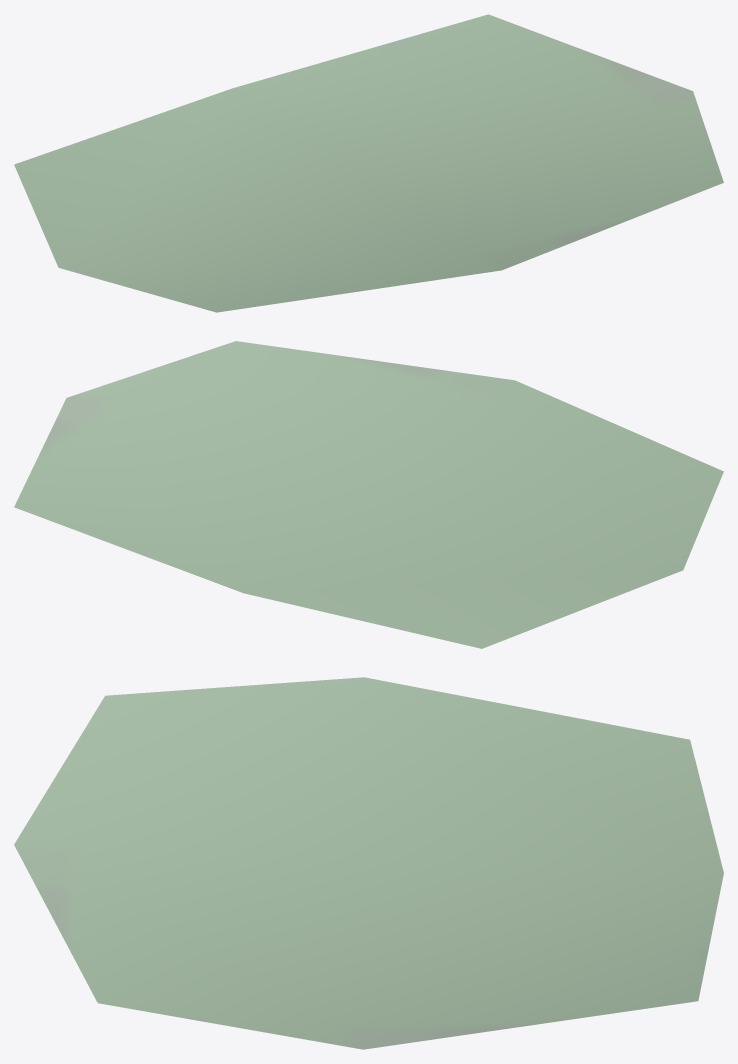
Rendered from TROLLHOLE02_HOLECAP28.fbx.
The picture shows the model from 3 angles, top to bottom: view 1: azimuth 30°, elevation 25°; view 2: azimuth 150°, elevation 25°; view 3: azimuth 270°, elevation 25°; orthographic projection. The views are drawn at different scales.
Parts seen in each view (by area): view 1: TROLLHOLE02_HOLECAP28; view 2: TROLLHOLE02_HOLECAP28; view 3: TROLLHOLE02_HOLECAP28.
Boxes of the visible parts, left/top/right/bottom form: TROLLHOLE02_HOLECAP28: left=14, top=14, right=723, bottom=312; TROLLHOLE02_HOLECAP28: left=14, top=341, right=723, bottom=648; TROLLHOLE02_HOLECAP28: left=14, top=677, right=723, bottom=1049.
Size of the model in its own units: 23700 by 1129 by 17730.
Materials: 1 (1 with a texture image).
